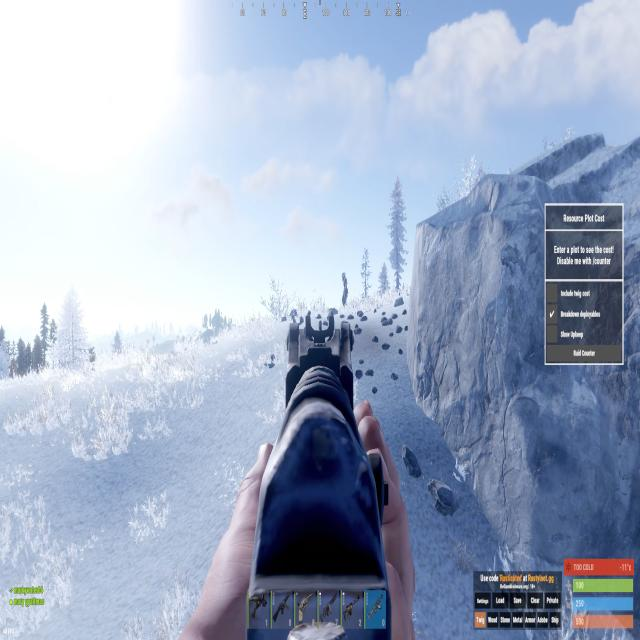Player: (341, 270, 349, 308)
